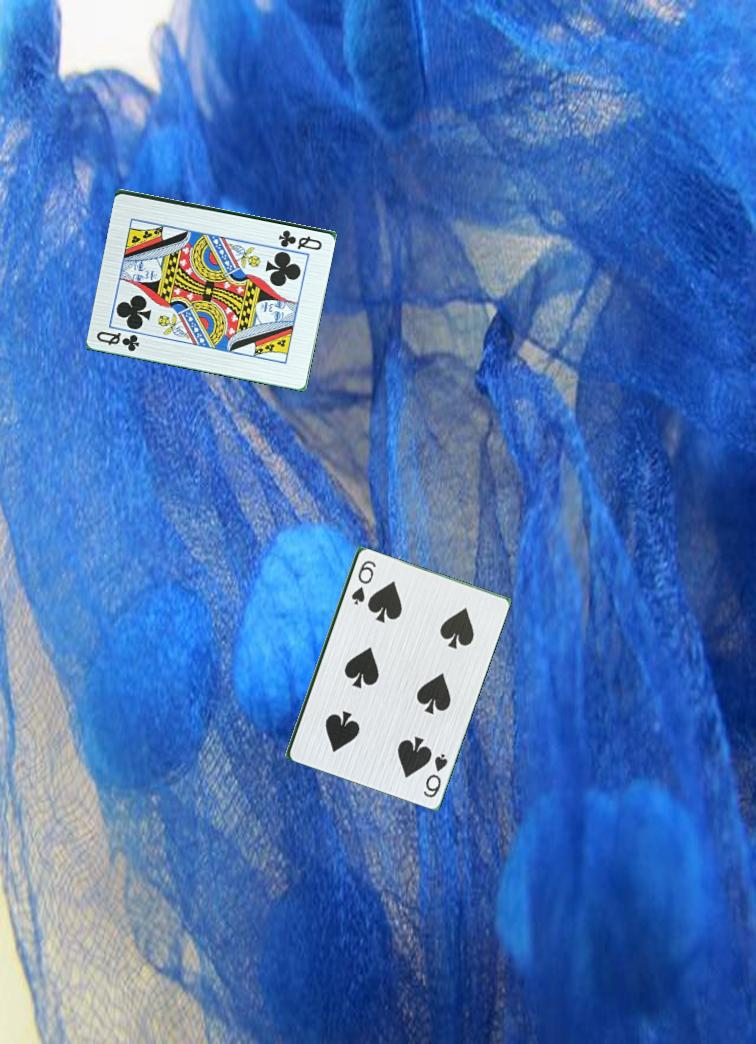6s: (420, 747, 451, 800), (347, 556, 378, 608)
qc: (275, 226, 325, 253), (93, 327, 143, 354)
